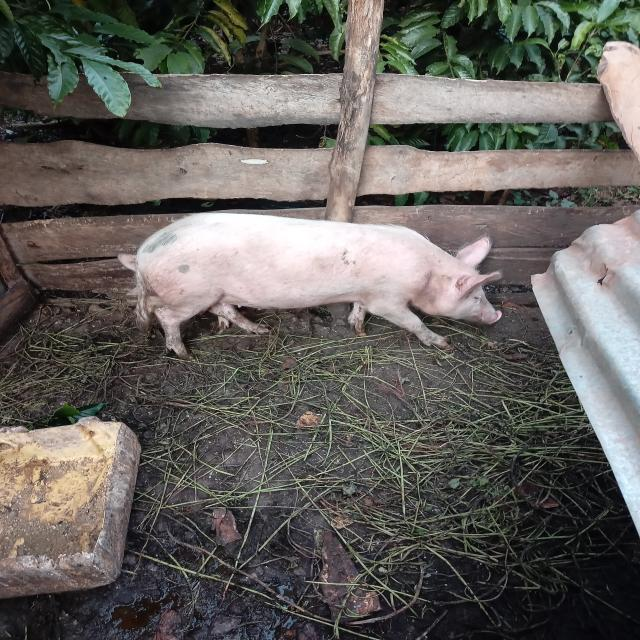pig: (78, 176, 531, 395)
